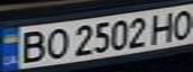0: (109, 17, 133, 52)
2: (69, 21, 97, 57), (127, 14, 154, 48)
5: (90, 19, 115, 54)
B: (12, 28, 51, 64)
H: (148, 9, 181, 44)
O: (39, 26, 72, 61), (166, 6, 193, 39)
